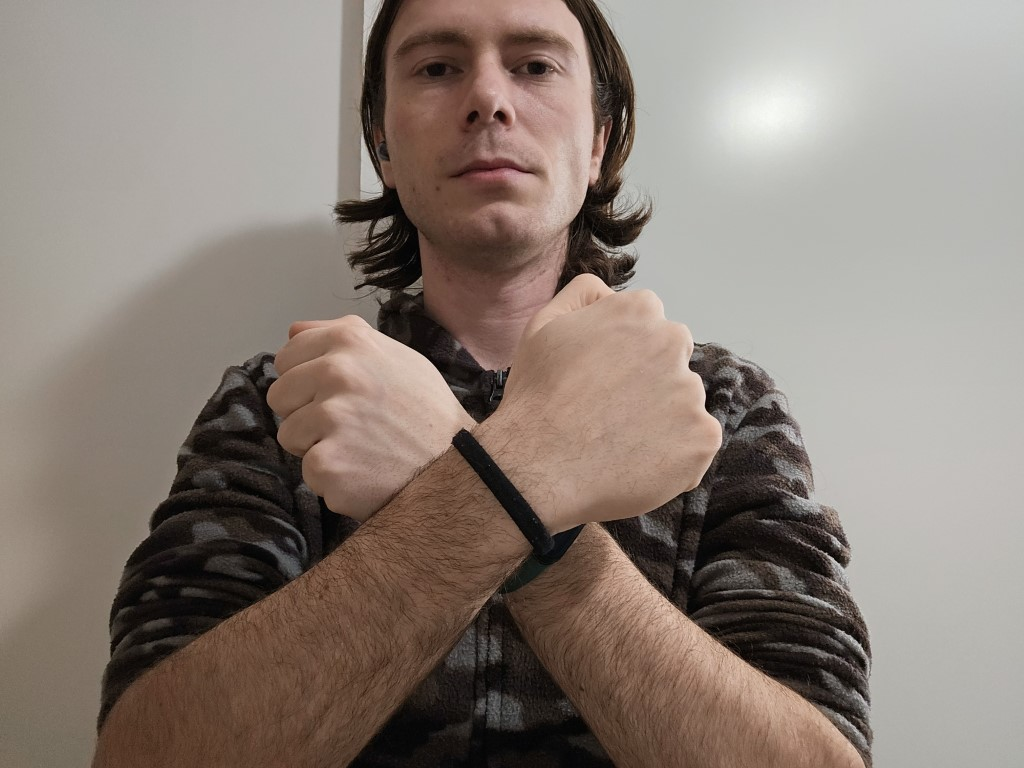del: (241, 253, 737, 623)
